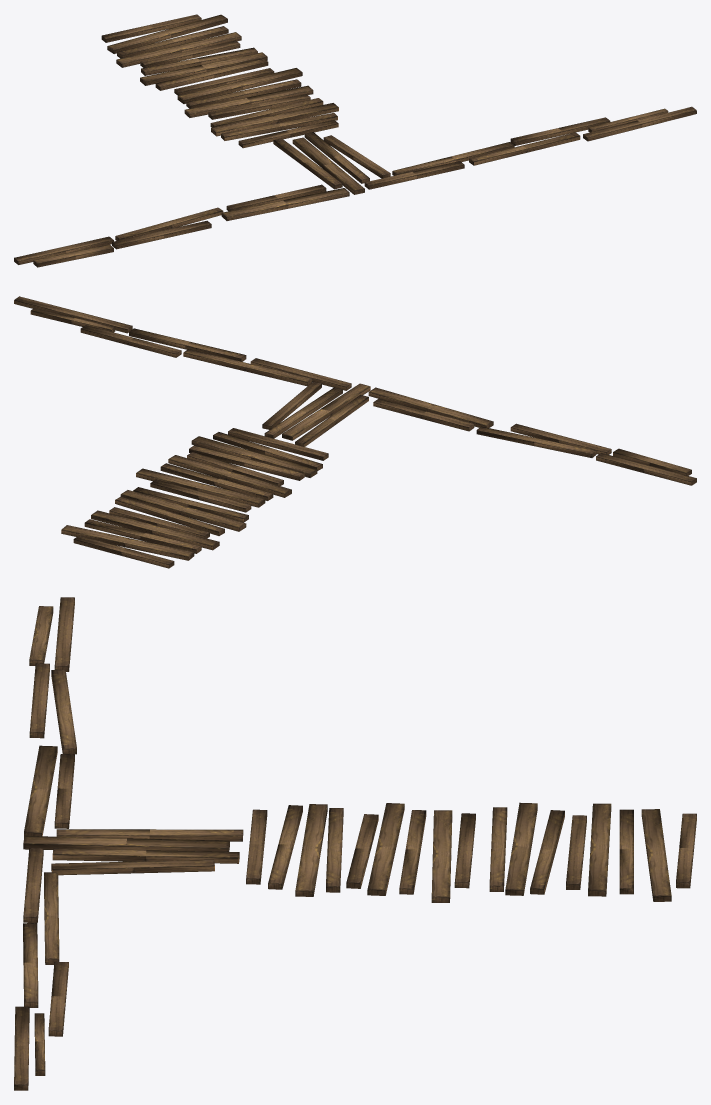
File: Plank_09.fbx
3 views of the same model, one above another, from view 1: azimuth 30°, elevation 25°; view 2: azimuth 150°, elevation 25°; view 3: azimuth 270°, elevation 25° (orthographic). The views are drawn at different scales.
Visible parts, largest first — view 1: Plank_09; view 2: Plank_09; view 3: Plank_09.
Part boxes in pixels (x1,y1,x2,y2): Plank_09: [14, 14, 696, 267]; Plank_09: [14, 296, 696, 568]; Plank_09: [14, 597, 696, 1090].
Size of the model in its own units: 6.94 by 0.0519 by 4.1.
